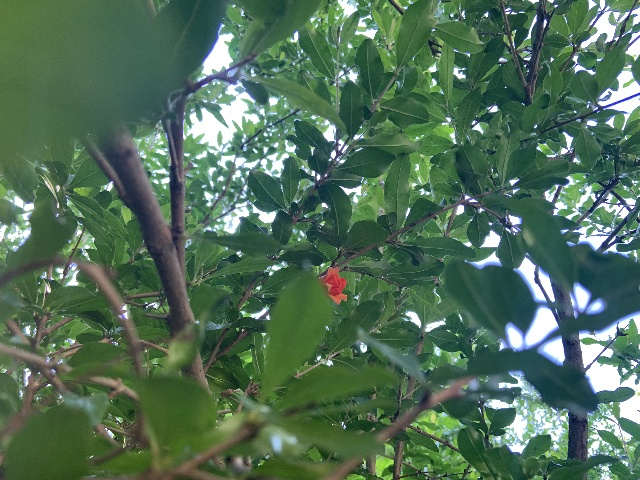flower: (319, 266, 347, 304)
